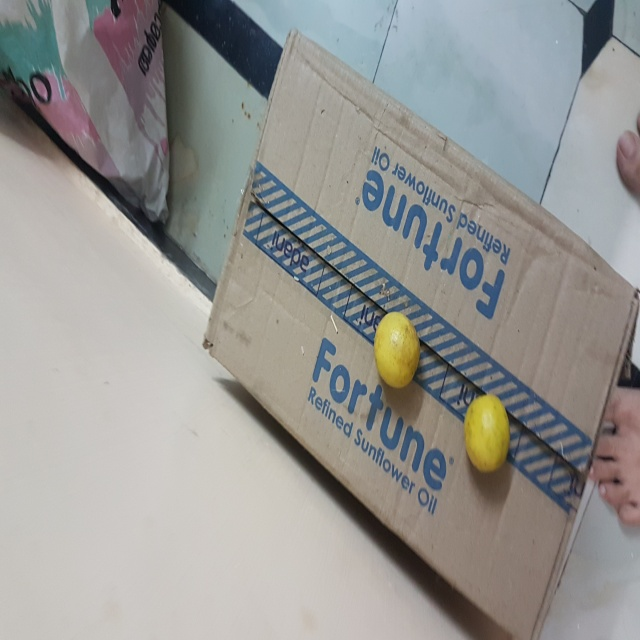lemon: (362, 307, 429, 394), (459, 388, 513, 478)
